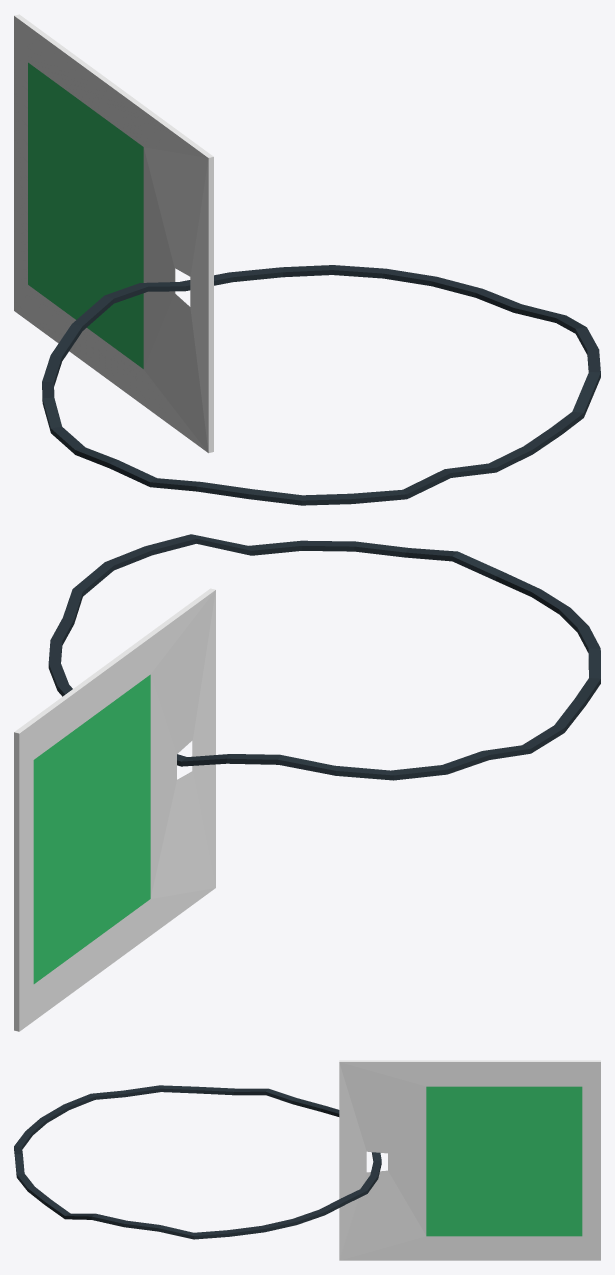
File: GreenSquareTag.fbx
3 views of the same model, one above another, from view 1: azimuth 30°, elevation 25°; view 2: azimuth 150°, elevation 25°; view 3: azimuth 270°, elevation 25° (orthographic). The views are drawn at different scales.
Parts seen in each view (by area): view 1: SquareTag.002; view 2: SquareTag.002; view 3: SquareTag.002.
Part boxes in pixels (x1,y1,x2,y2): SquareTag.002: (14, 14, 600, 505); SquareTag.002: (14, 534, 600, 1031); SquareTag.002: (14, 1060, 600, 1260).
Bounding box in the file's own units: 55.34 × 31.91 × 85.46.
